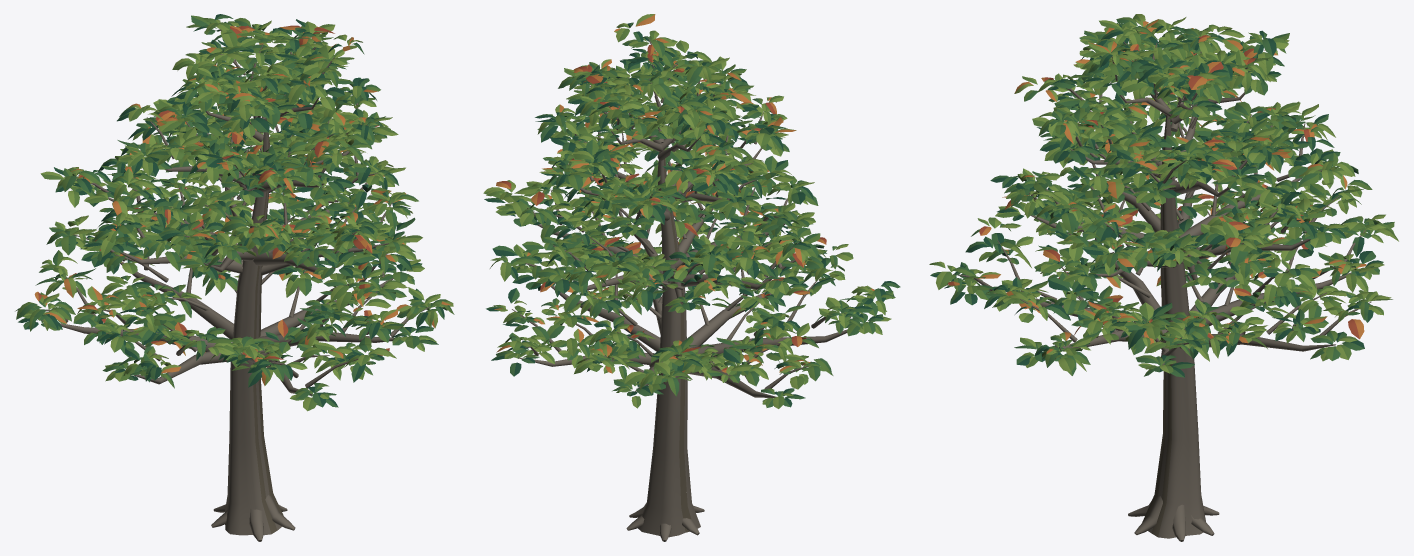
The picture shows the model from 3 angles, left to right: view 1: azimuth 30°, elevation 25°; view 2: azimuth 150°, elevation 25°; view 3: azimuth 270°, elevation 25°; orthographic projection. The views are drawn at different scales.
Parts seen in each view (by area): view 1: Ketapang Foliage, Trunk and Root Flare, Tiered Branches; view 2: Ketapang Foliage, Tiered Branches, Trunk and Root Flare; view 3: Ketapang Foliage, Tiered Branches, Trunk and Root Flare.
Part boxes in pixels (x1,y1,x2,y2): Ketapang Foliage: [15, 14, 454, 411]; Trunk and Root Flare: [211, 132, 295, 541]; Tiered Branches: [41, 29, 429, 395]; Ketapang Foliage: [483, 14, 900, 408]; Tiered Branches: [512, 38, 856, 397]; Trunk and Root Flare: [626, 149, 704, 541]; Ketapang Foliage: [929, 14, 1398, 377]; Tiered Branches: [953, 35, 1371, 365]; Trunk and Root Flare: [1128, 115, 1219, 541].
Bounding box in the file's own units: 7.18 × 8.92 × 7.43.
